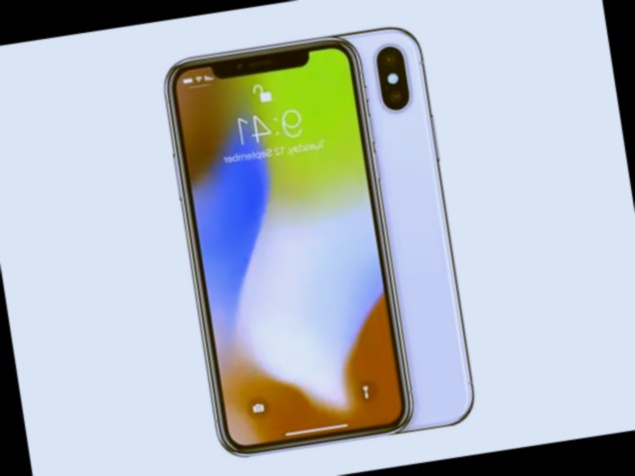iphone: (208, 65, 467, 476)
